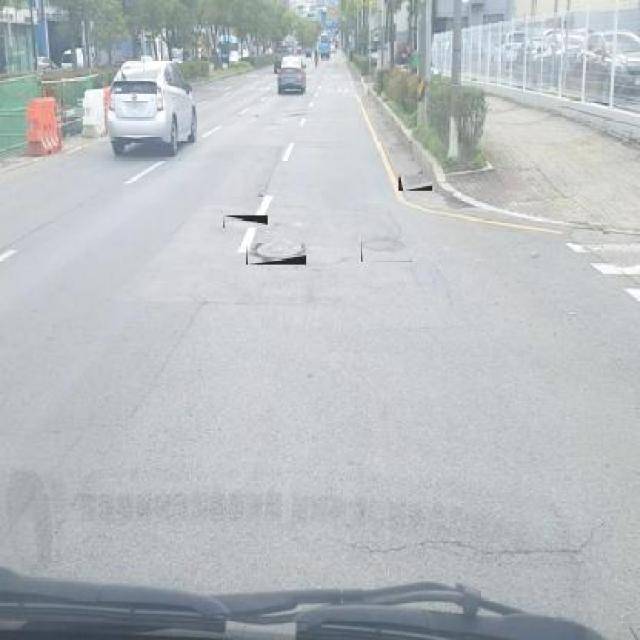Manhole: (246, 242, 306, 266), (360, 236, 412, 262), (223, 214, 268, 228), (398, 174, 432, 191)
Pothole: (256, 192, 264, 196)
